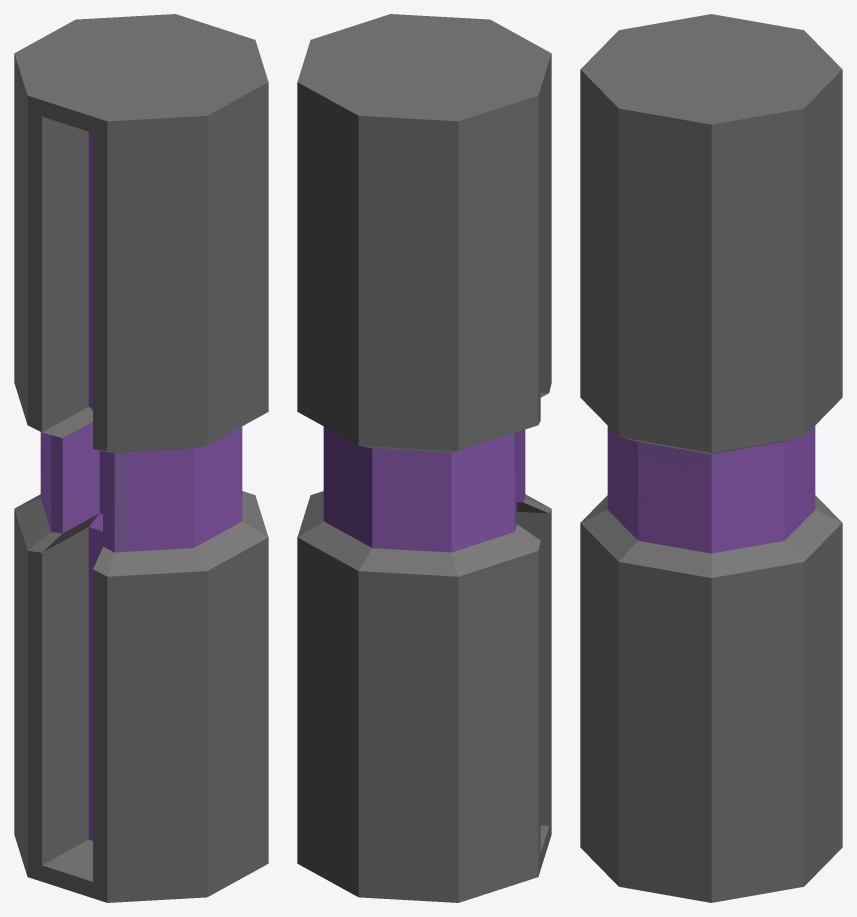
The picture shows the model from 3 angles, left to right: view 1: azimuth 30°, elevation 25°; view 2: azimuth 150°, elevation 25°; view 3: azimuth 270°, elevation 25°; orthographic projection.
Visible parts, largest first — view 1: SM_B_Part7; view 2: SM_B_Part7; view 3: SM_B_Part7.
Part boxes in pixels (box(x1,y1,x2,y2)): SM_B_Part7: box(14, 14, 268, 902); SM_B_Part7: box(297, 14, 551, 902); SM_B_Part7: box(580, 14, 842, 902).
Size of the model in its own units: 59.04 by 59.04 by 193.
Materials: 1 (1 with a texture image).
